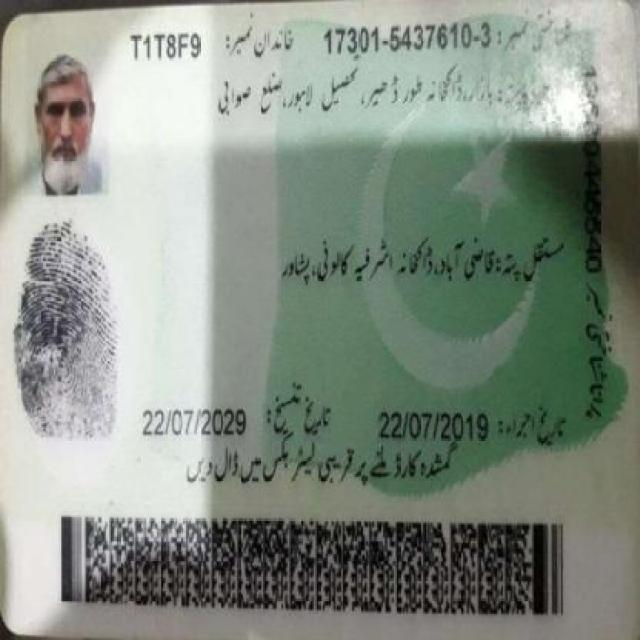Back: (14, 5, 629, 626)
